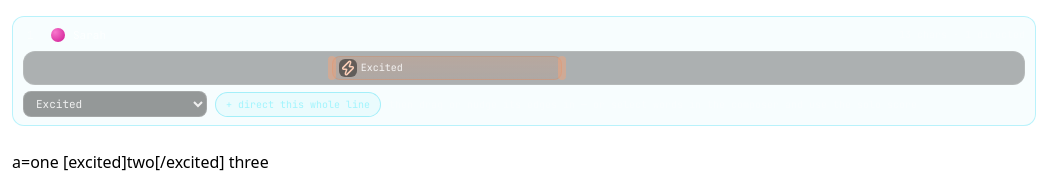
Scenario: ScriptScore — the scene as stacked lanes › refuses an overlapping placement by name instead of dropping it
This screenshot has width=1048, height=191.
What coordinates should you click on to do the following:
click the button "+ direct this whole line"
I would click on:
 (298, 104)
Its box is [215,92,381,116].
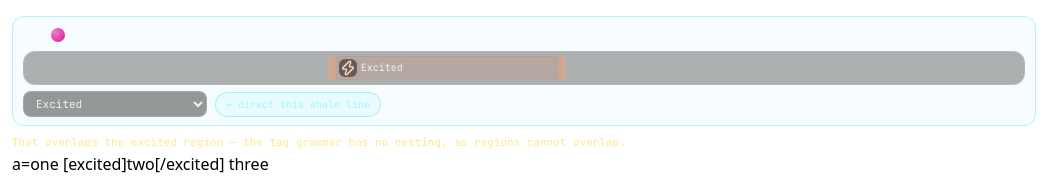
Check: the text with test id "wire" reads "a=one [excited]two[/excited] three", box [12,153,269,175]
Check: the text "overlaps the excited region" is shown, box [12,135,626,149]
